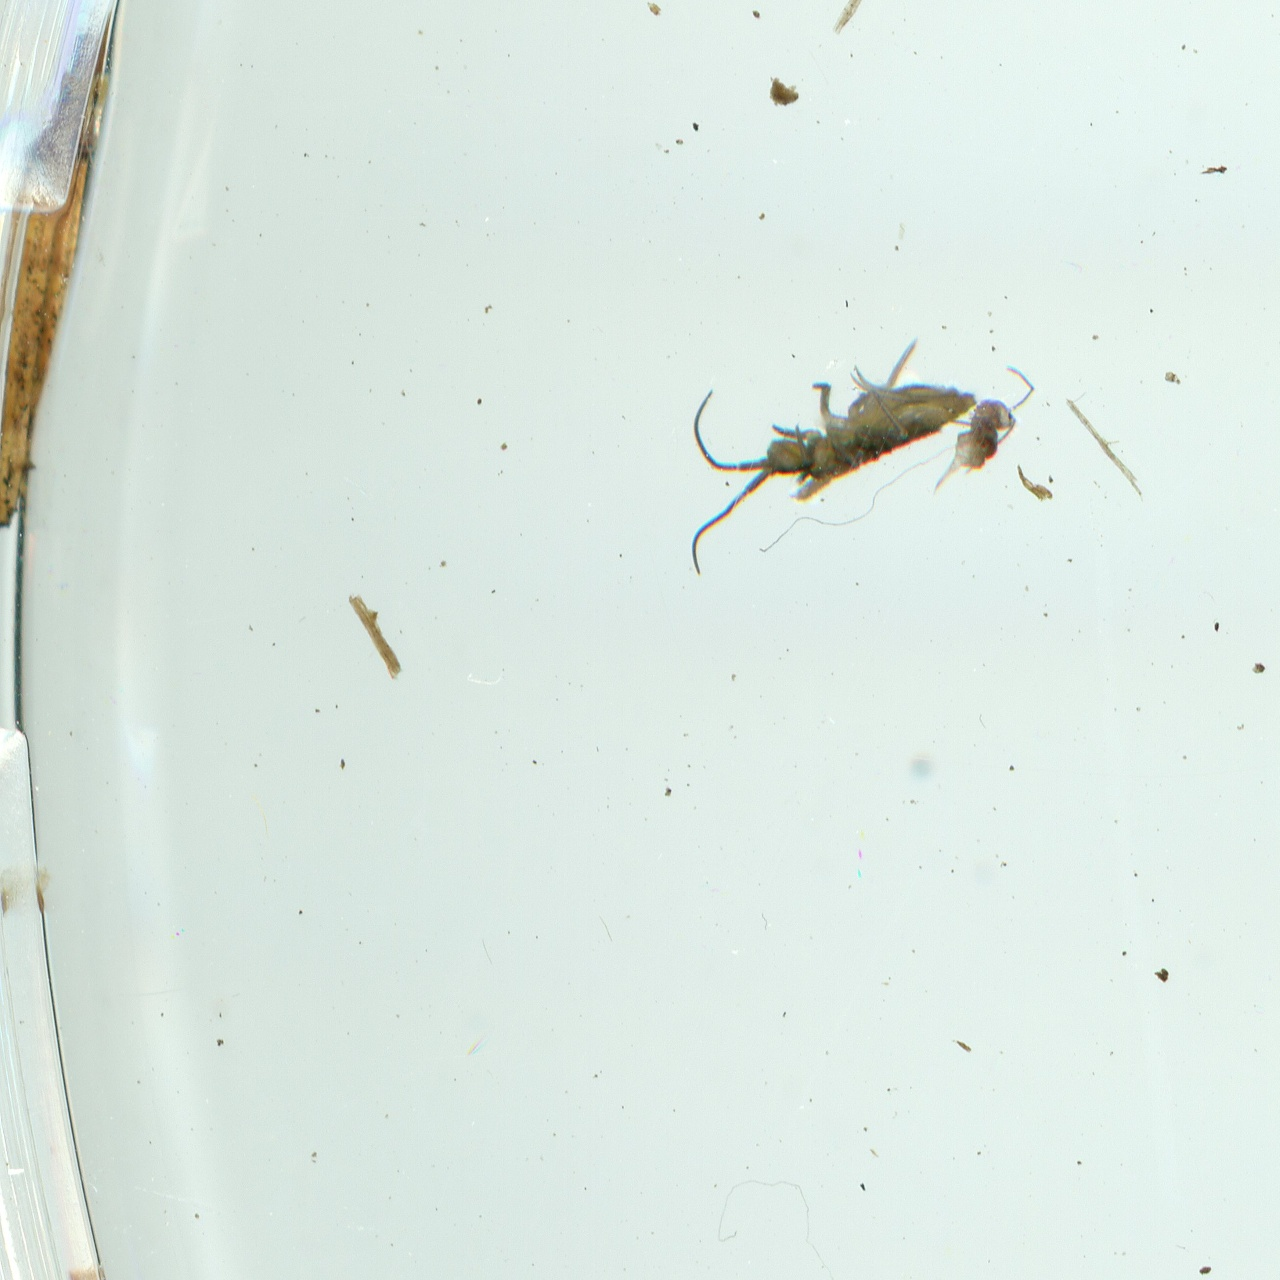arthropod: (624, 283, 1004, 582), (908, 346, 1047, 522)
